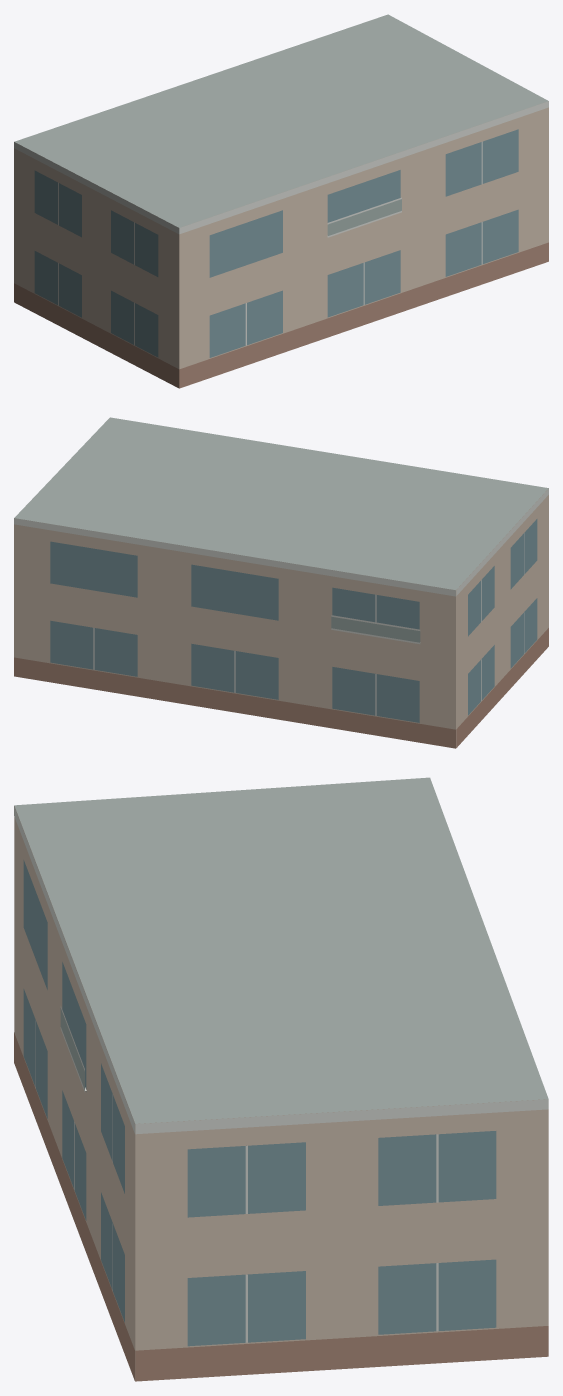
Rendered from survey-upis-32880832.glb.
3 views of the same model, one above another, from view 1: azimuth 30°, elevation 25°; view 2: azimuth 150°, elevation 25°; view 3: azimuth 270°, elevation 25° (orthographic). The views are drawn at different scales.
Visible parts, largest first — view 1: survey-upis-32880832.tmp; view 2: survey-upis-32880832.tmp; view 3: survey-upis-32880832.tmp.
Boxes of the visible parts, left/top/right/bottom form: survey-upis-32880832.tmp: left=14, top=14, right=548, bottom=388; survey-upis-32880832.tmp: left=14, top=417, right=548, bottom=748; survey-upis-32880832.tmp: left=14, top=777, right=548, bottom=1381.
Size of the model in its own units: 17.62 by 6.1 by 11.49.
